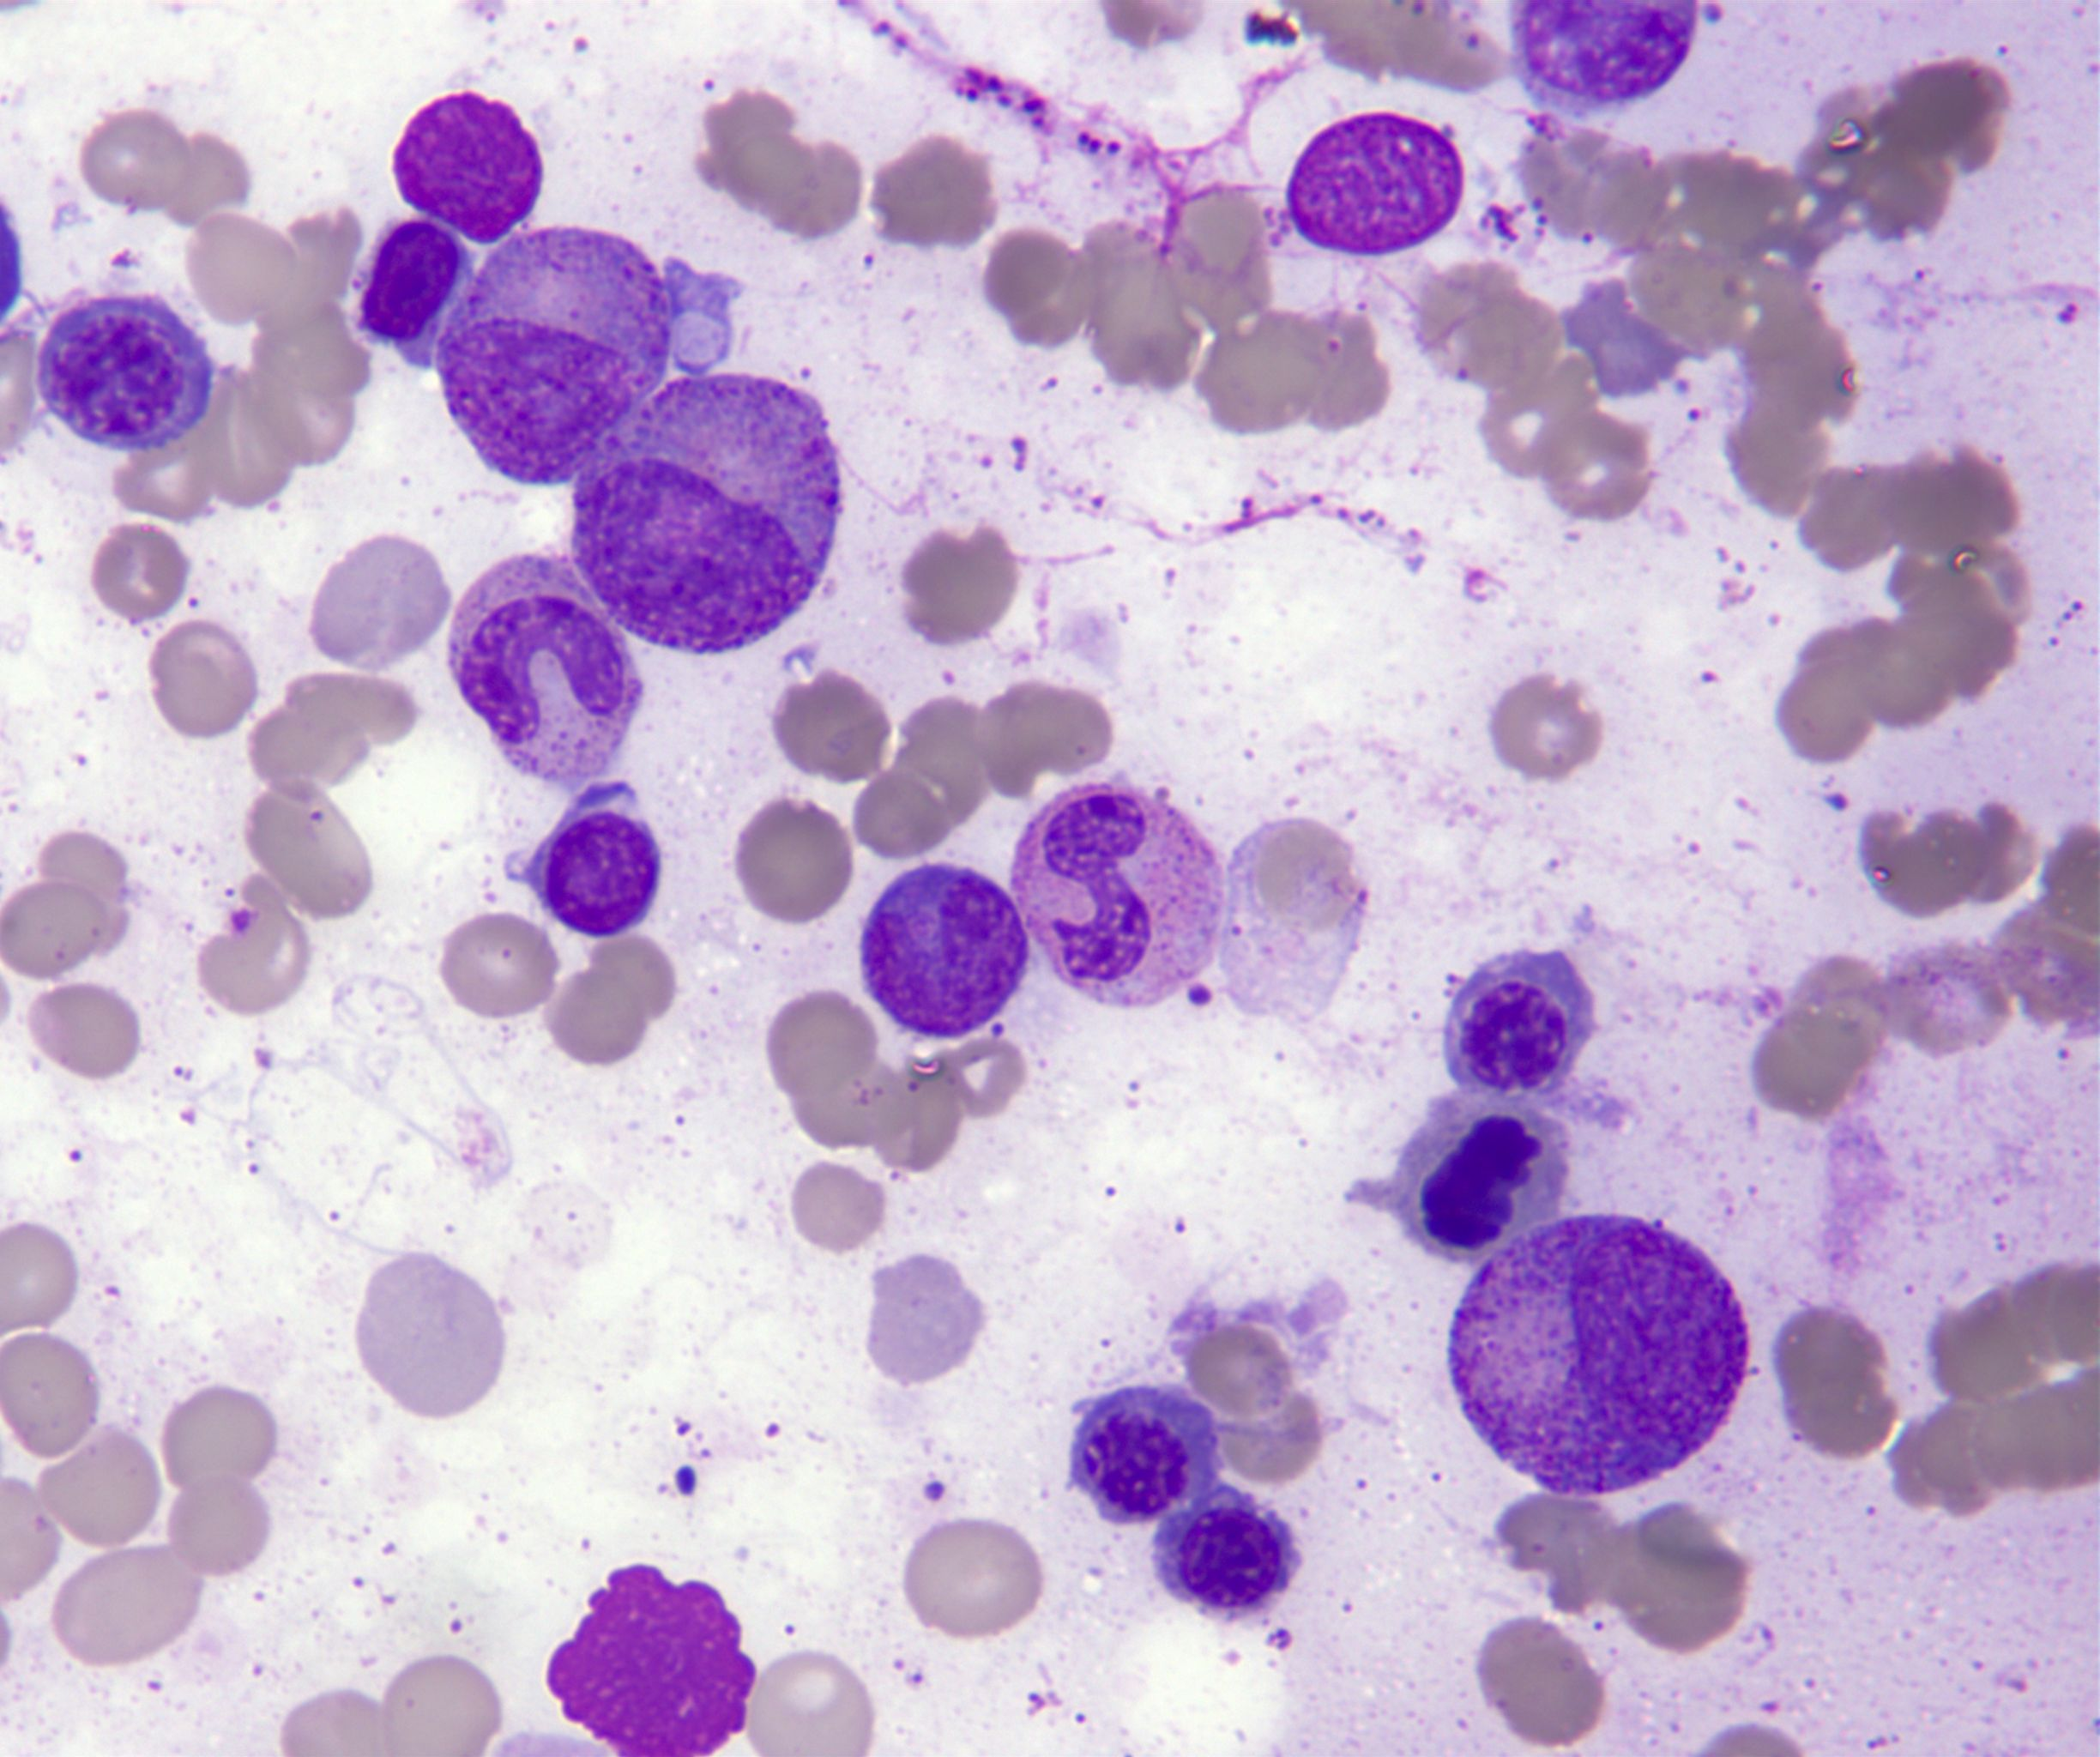23: (40, 298, 211, 447), (1444, 947, 1592, 1103), (1069, 1389, 1224, 1525), (1155, 1487, 1301, 1623)
3: (1449, 1216, 1748, 1495), (574, 377, 837, 653), (434, 227, 666, 483)
32: (506, 785, 661, 939), (358, 220, 474, 368)
42: (863, 864, 1027, 1038)
5: (1013, 783, 1224, 1008), (445, 557, 645, 785)
x: (548, 1562, 755, 1757), (1348, 1090, 1570, 1265), (1285, 110, 1463, 255), (392, 92, 542, 248), (1512, 2, 1697, 120)
